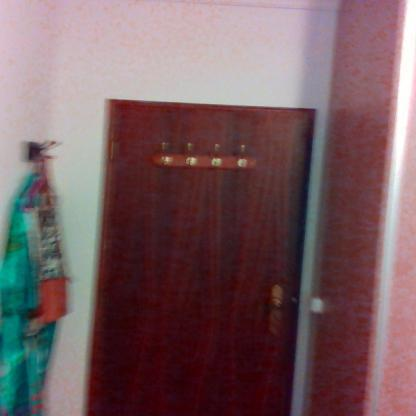door: (94, 102, 297, 416)
hinged: (108, 137, 116, 160)
knob: (268, 296, 286, 312)
